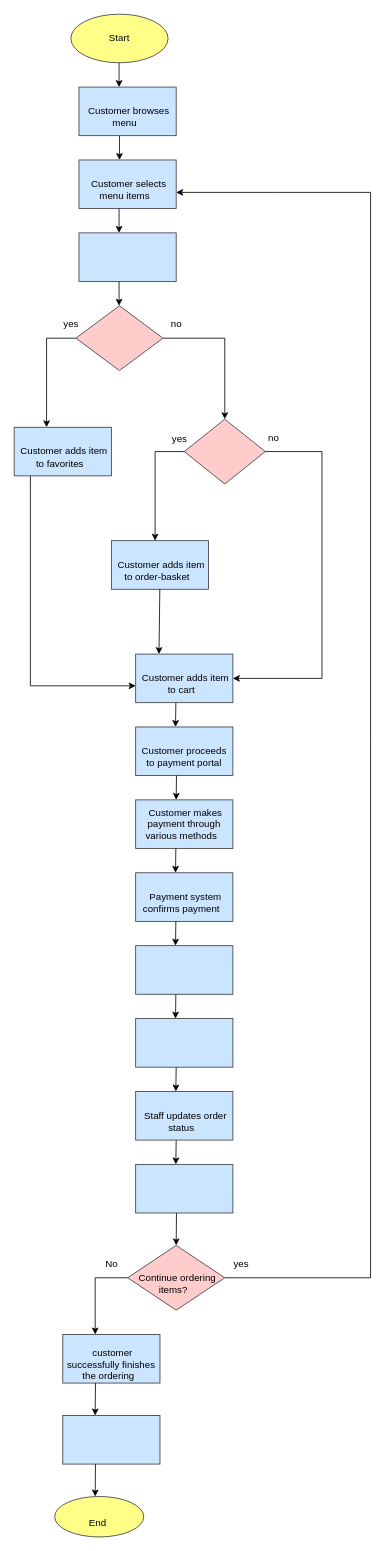
Image size: 391x1551. Some labels were removed from this diagram. The shapes that lost their labels are listed below. From the top down, each one's centre as x and y in pixels, then its label:
At point (127, 256): "Customer customizes order preferences".
At point (119, 338): "Is the item favorite?".
At point (224, 451): "Want to add to basket?".
At point (184, 969): "Order is submitted to restaurant system".
At point (184, 1042): "Restaurant staff views order in real time".
At point (184, 1188): "Order status is reflected to customer".
At point (111, 1439): "Staff generates reports on customer orders".
